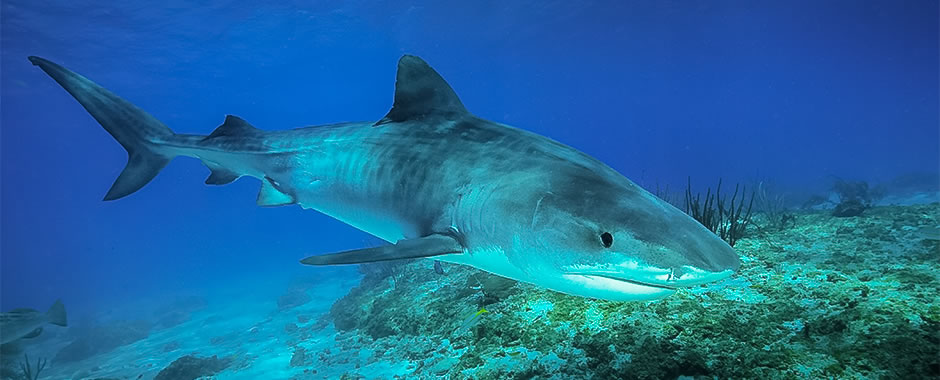shark: (21, 36, 750, 306)
